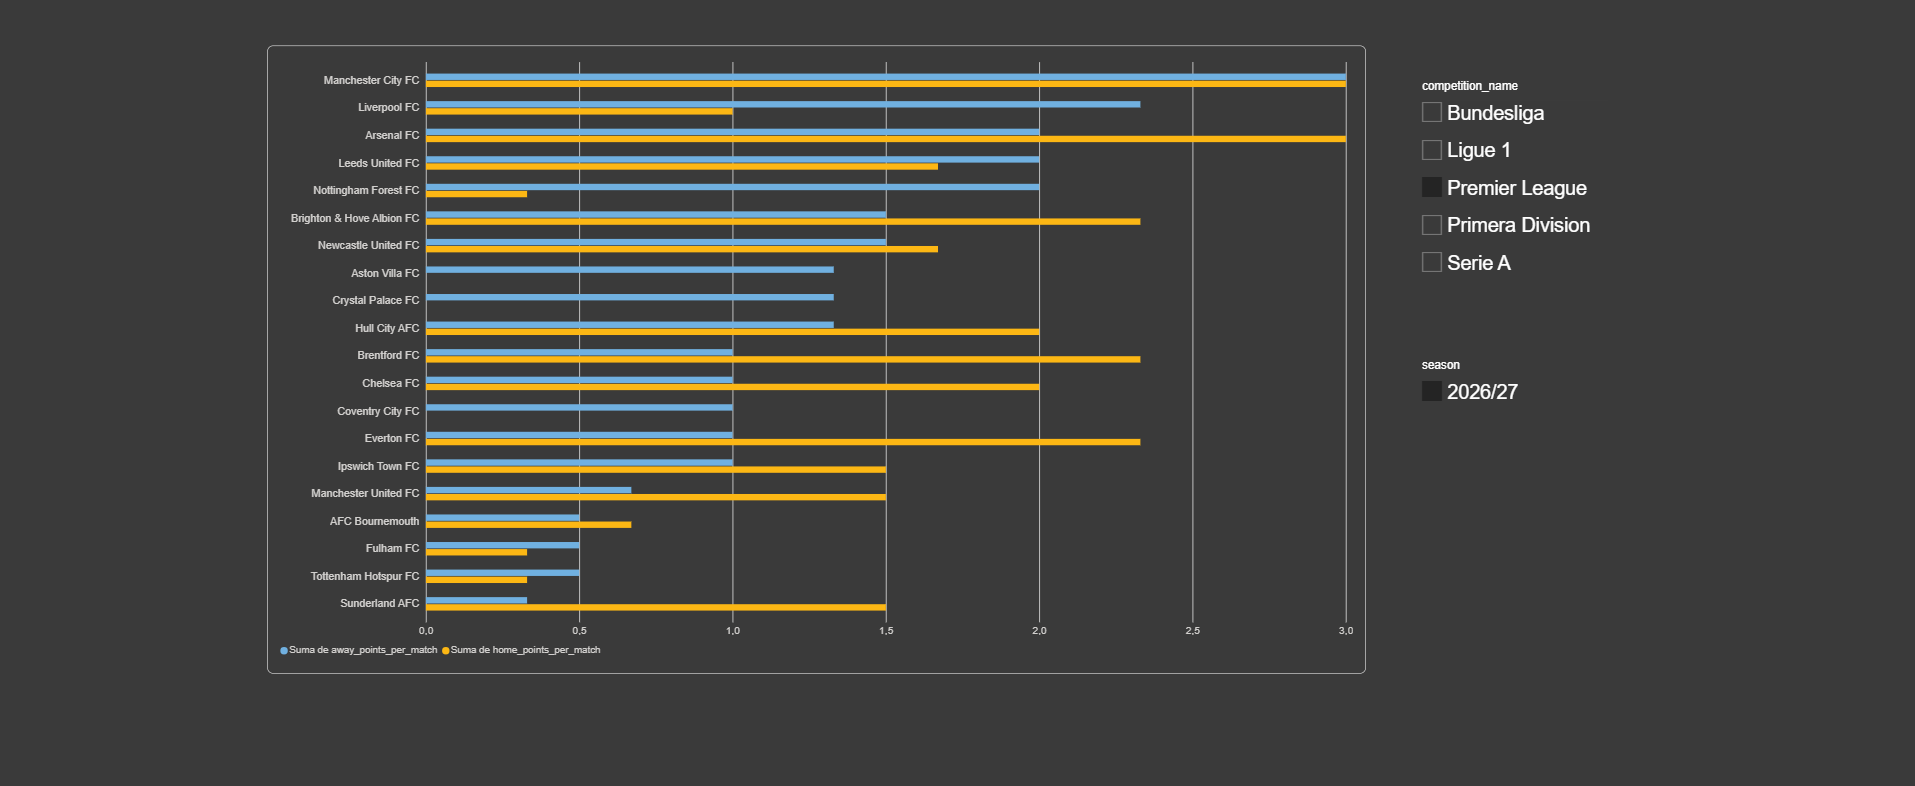

What the dashboard file says about the page in this screenshot:
{"tool":"powerbi","page":{"name":"Teams","canvas":[1920,1080],"ordinal":2},"visuals":[{"type":"clusteredBarChart","fields":{"Category":["team_standings.team_name"],"Y":["Sum(team_standings.away_points_per_match)","Sum(team_standings.home_points_per_match)"]},"box":[22.6,63.8,1494.3,854.2],"z":0},{"type":"slicer","fields":{"Values":["team_standings.competition_name"]},"box":[1584.9,111.1,261.4,279.9],"z":1000},{"type":"slicer","fields":{"Values":["team_standings.season"]},"box":[1584.9,489.9,257.3,164.7],"z":1001}]}

Visuals, with their boxes on the page's 1920x1080 design canvas (x1, y1, x2, y2). These are canvas units, not pixel positions in the 1915x786 screenshot, which may show the page scaled, cropped or inside an application window:
clusteredBarChart - team_standings.team_name x Sum(team_standings.away_points_per_match): <box>23,64,1517,918</box>
slicer - team_standings.competition_name: <box>1585,111,1846,391</box>
slicer - team_standings.season: <box>1585,490,1842,655</box>
